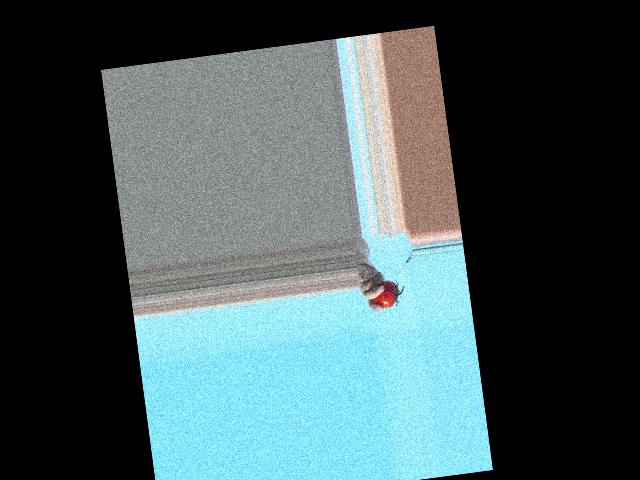tomato: (369, 279, 400, 310)
